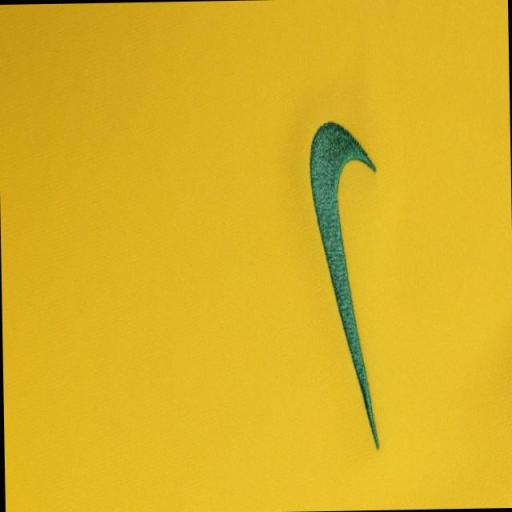Nike: (297, 103, 395, 490)
